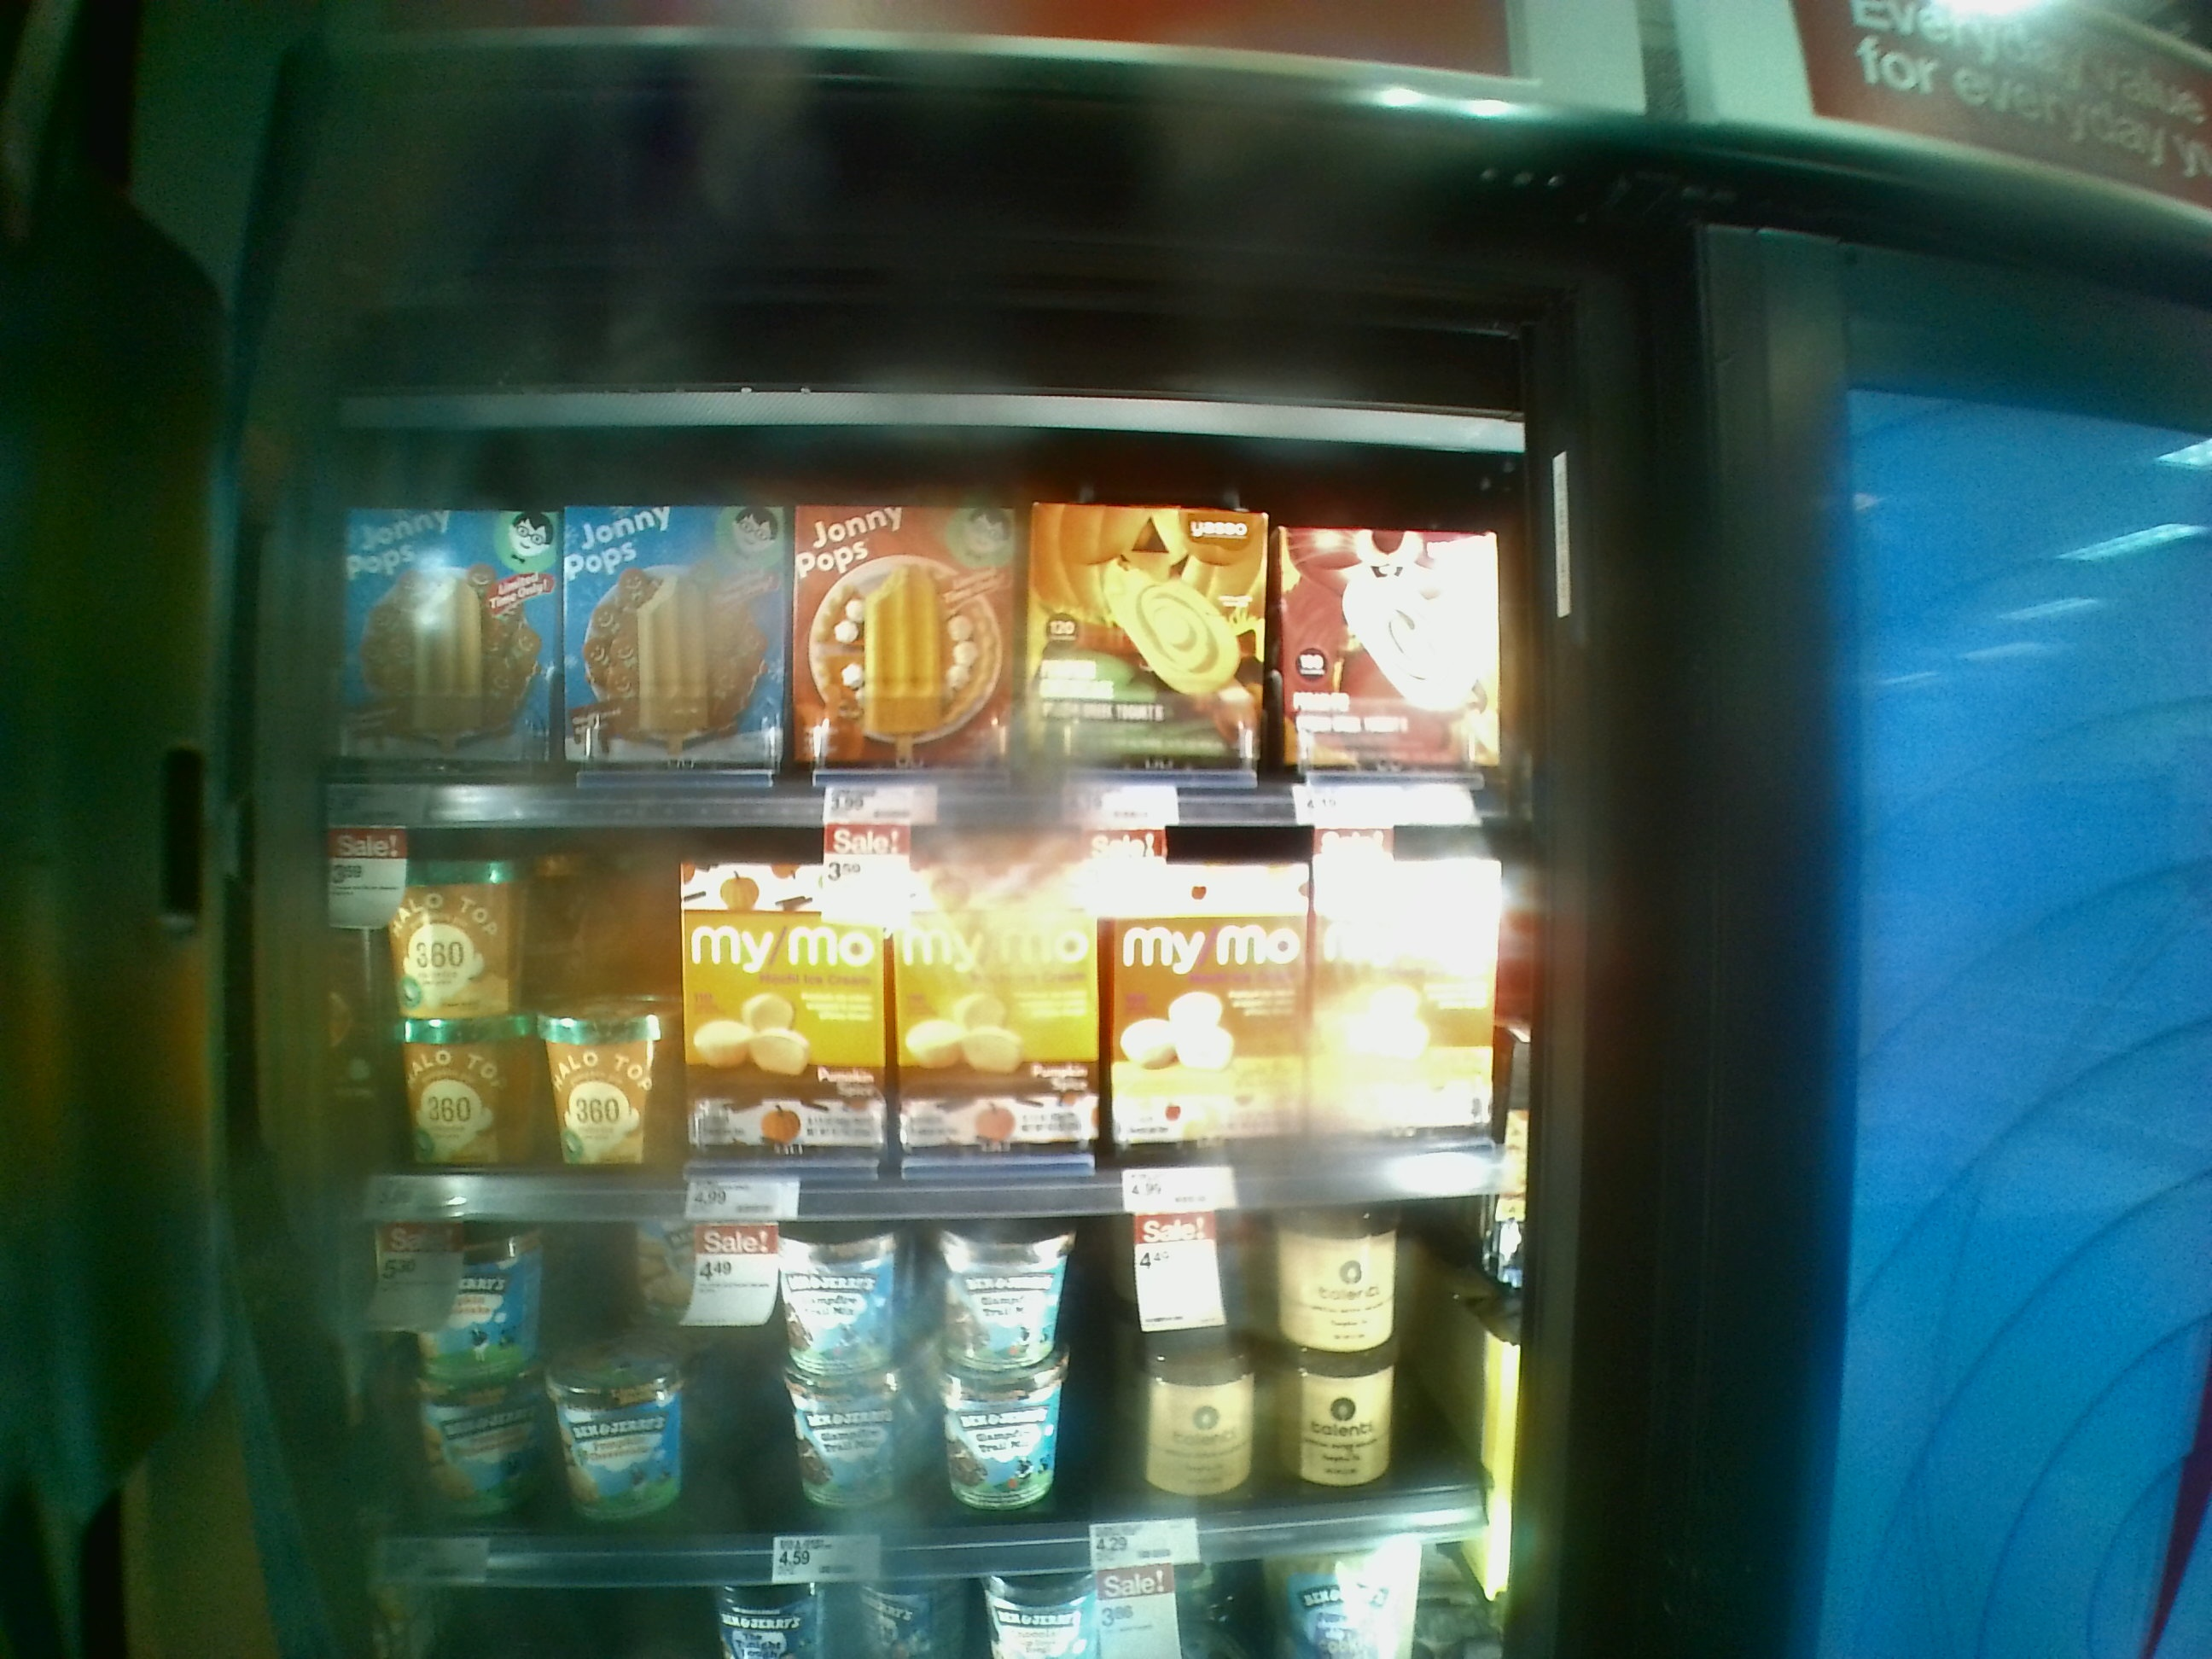shelf: (301, 793, 1540, 1218), (312, 437, 1522, 828), (319, 1195, 1508, 1575)
